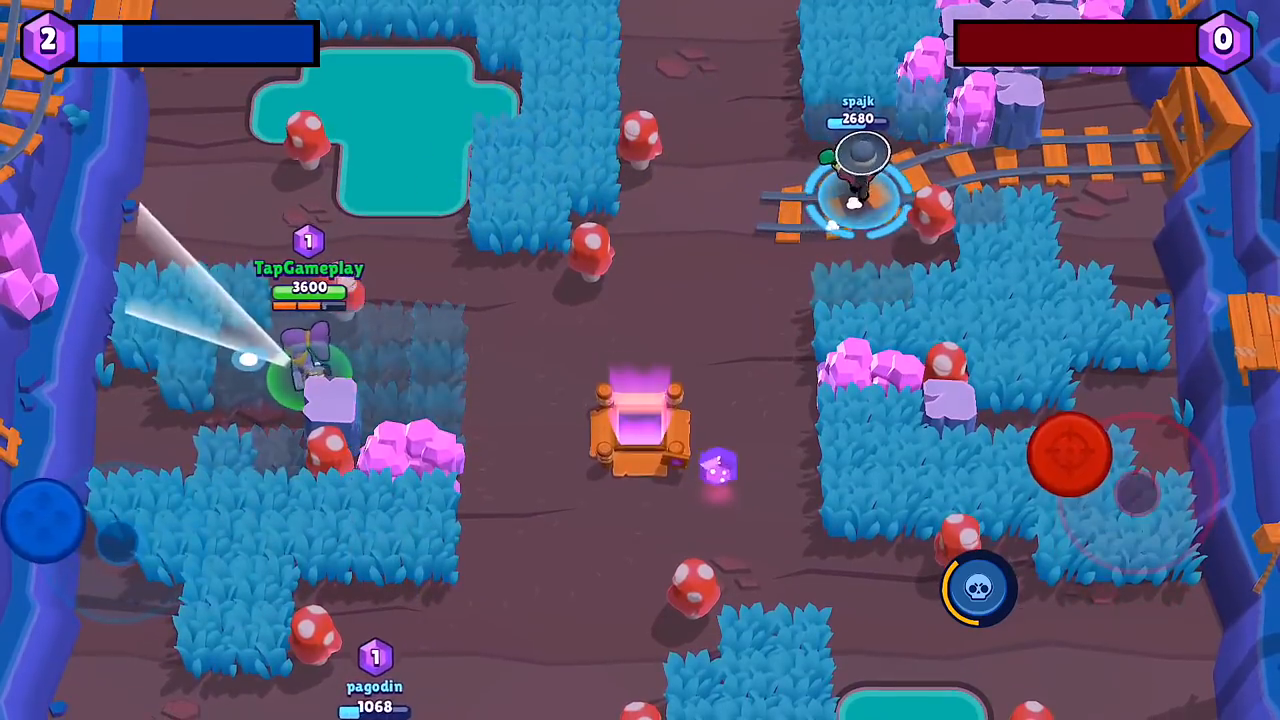move_stick: (2, 484, 89, 559)
